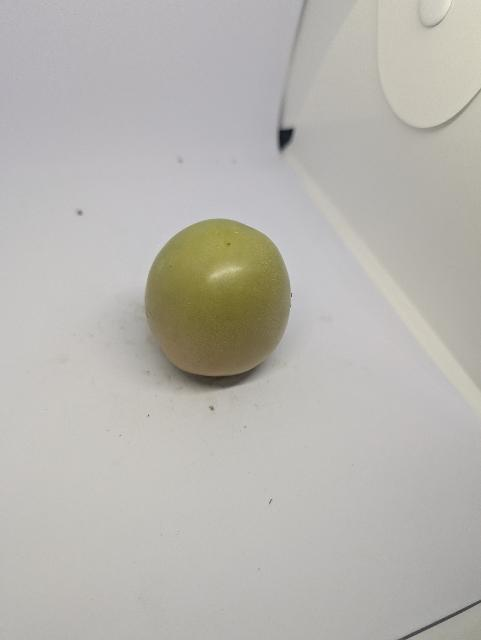breaker: (142, 216, 295, 384)
